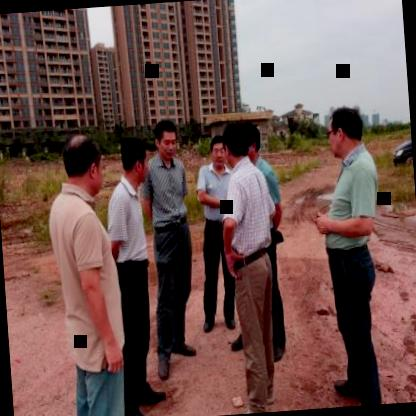head: (322, 98, 374, 164), (58, 129, 106, 200), (112, 129, 154, 192), (222, 121, 252, 175), (152, 115, 184, 164), (246, 118, 265, 170), (210, 133, 225, 168)
